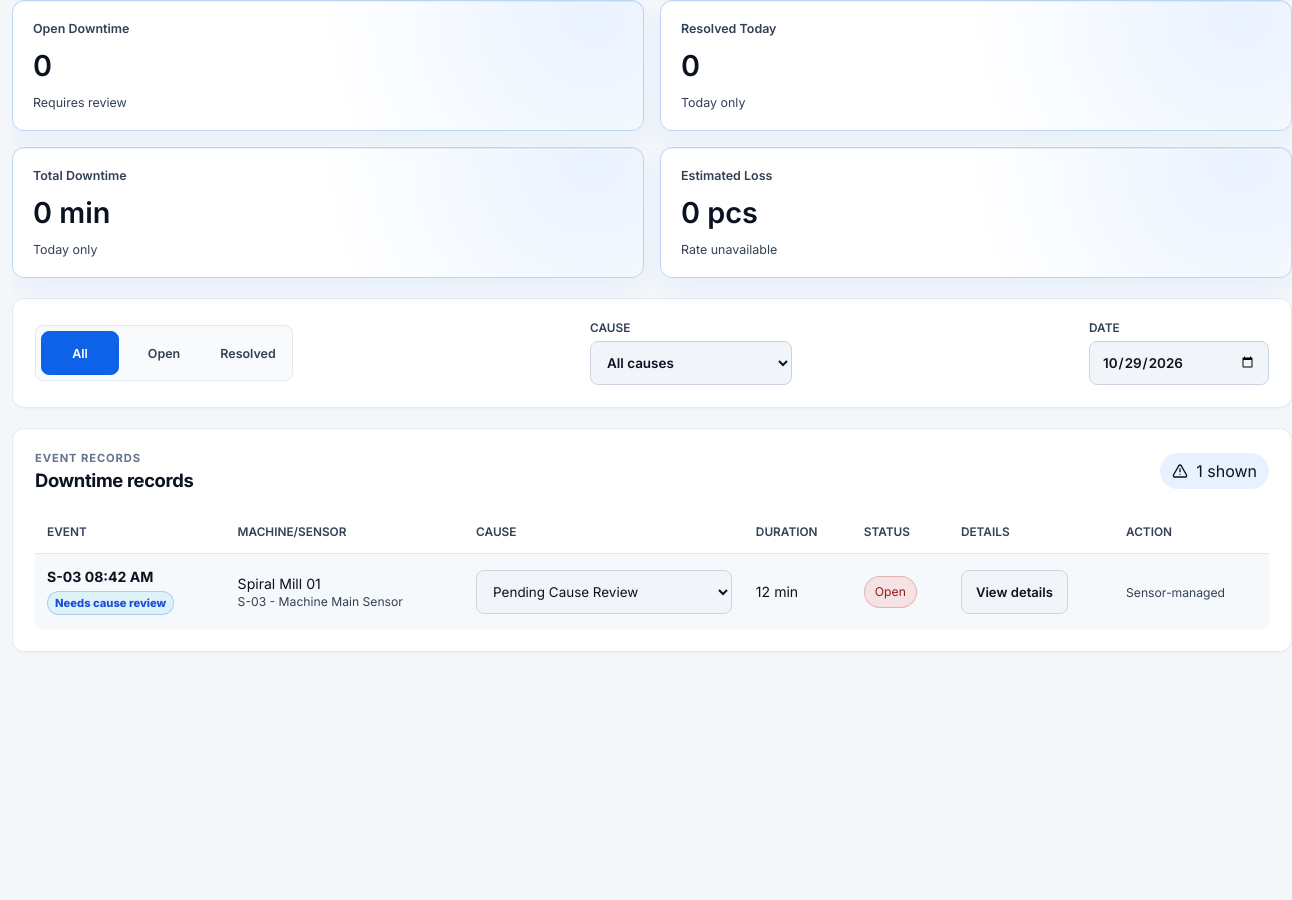
DowntimeSection › explains the default 30-day window when the date filter is cleared
Expected: the text "S-03 08:42 AM" is shown, left=47, top=568, right=153, bottom=585
Expected: the text "Showing the last 30 days" is not shown
Clear the date field labelled "Date" at (1179, 363), box left=1089, top=341, right=1269, bottom=385
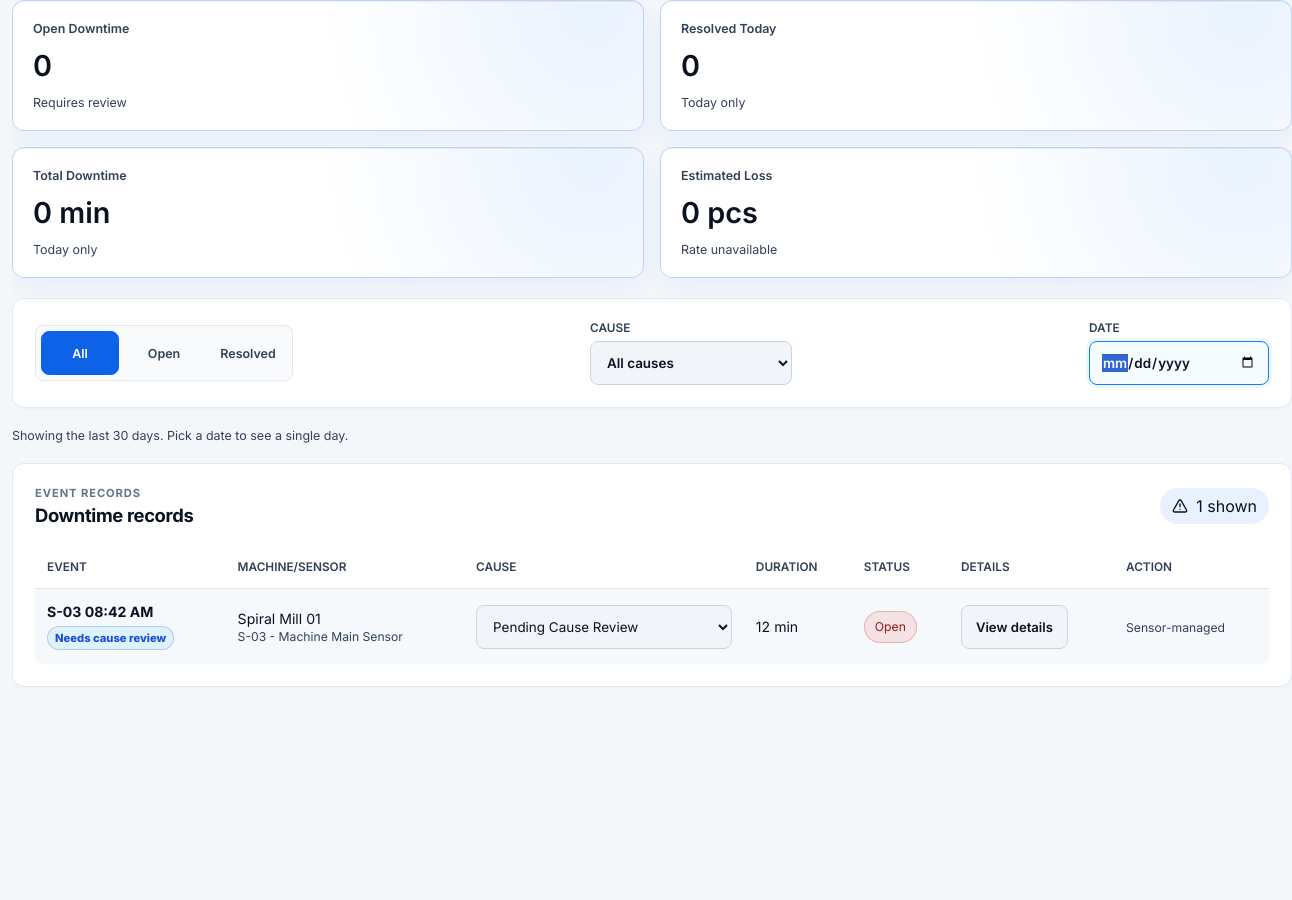
Expected: the text "Showing the last 30 days. Pick a date to see a single day." is shown, left=12, top=428, right=348, bottom=443
